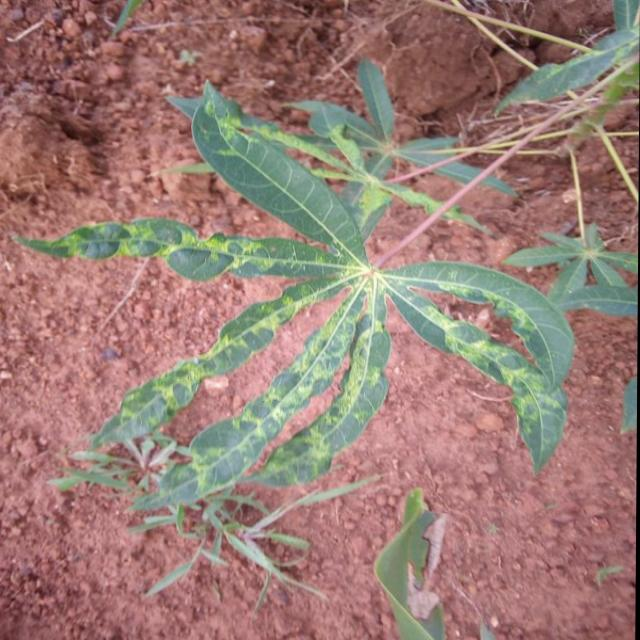Mosaico: (61, 114, 585, 527), (184, 77, 488, 258), (365, 479, 479, 640)
